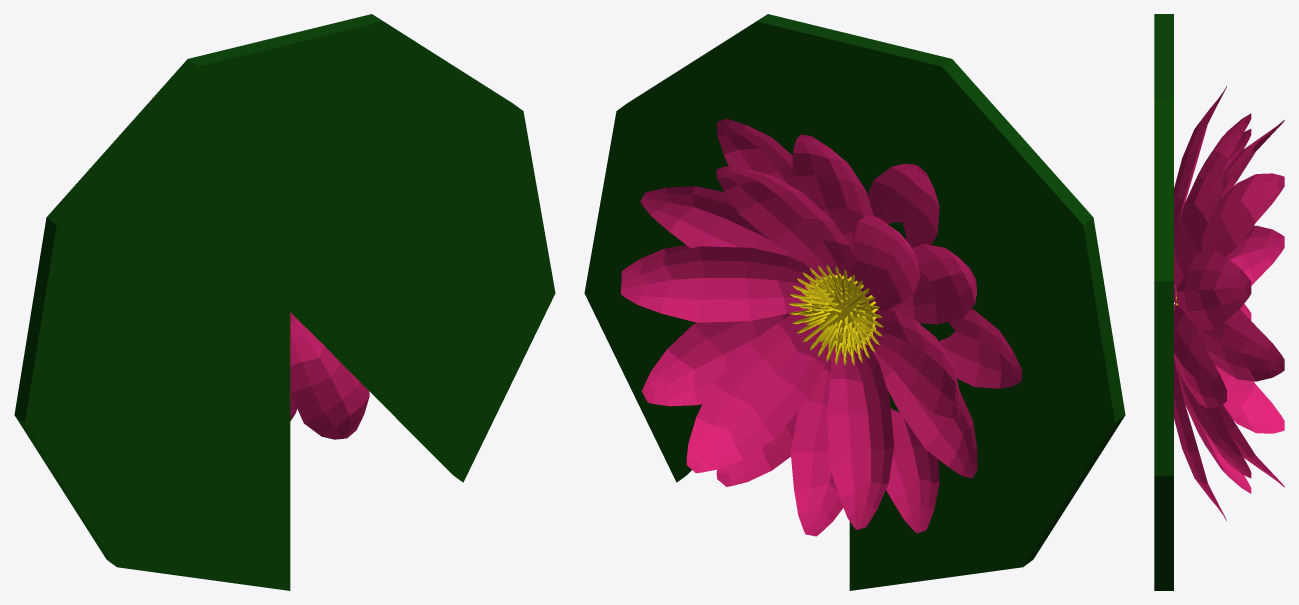
The model's file is Lilypad2_2.fbx.
The picture shows the model from 3 angles, left to right: view 1: azimuth 30°, elevation 25°; view 2: azimuth 150°, elevation 25°; view 3: azimuth 270°, elevation 25°; orthographic projection. The views are drawn at different scales.
Visible parts, largest first — view 1: Lilypad2; view 2: Lilypad2; view 3: Lilypad2.
Boxes of the visible parts, left/top/right/bottom form: Lilypad2: left=14, top=14, right=555, bottom=590; Lilypad2: left=584, top=14, right=1125, bottom=590; Lilypad2: left=1154, top=14, right=1284, bottom=590.
Bounding box in the file's own units: 201 × 198 × 45.16.
